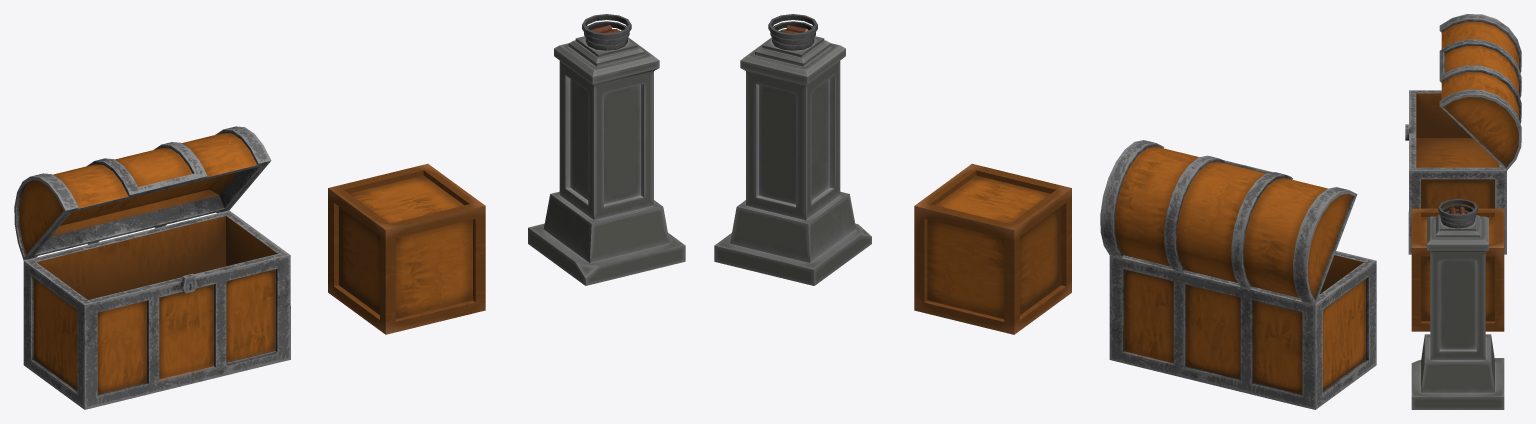
The model's file is chest__box__brazier_-_stylized_dungeon_props (1).glb.
The picture shows the model from 3 angles, left to right: view 1: azimuth 30°, elevation 25°; view 2: azimuth 150°, elevation 25°; view 3: azimuth 270°, elevation 25°; orthographic projection. The views are drawn at different scales.
Visible parts, largest first — view 1: Cofre, Brazero, Caja, CofreTapa; view 2: Cofre, CofreTapa, Brazero, Caja; view 3: Brazero, CofreTapa, Cofre, Caja.
Part boxes in pixels (left/top/right/bottom): Cofre: left=23, top=210, right=290, bottom=409; Brazero: left=528, top=14, right=685, bottom=285; Caja: left=328, top=163, right=485, bottom=334; CofreTapa: left=14, top=126, right=271, bottom=260; Cofre: left=1109, top=251, right=1376, bottom=409; CofreTapa: left=1100, top=140, right=1357, bottom=305; Brazero: left=714, top=14, right=871, bottom=285; Caja: left=914, top=163, right=1071, bottom=334; Brazero: left=1411, top=199, right=1504, bottom=409; CofreTapa: left=1439, top=14, right=1521, bottom=170; Cofre: left=1405, top=90, right=1506, bottom=254; Caja: left=1411, top=208, right=1504, bottom=331.
Bounding box in the file's own units: 6.03 × 2.18 × 1.26.
Materials: 1 (1 with a texture image).
